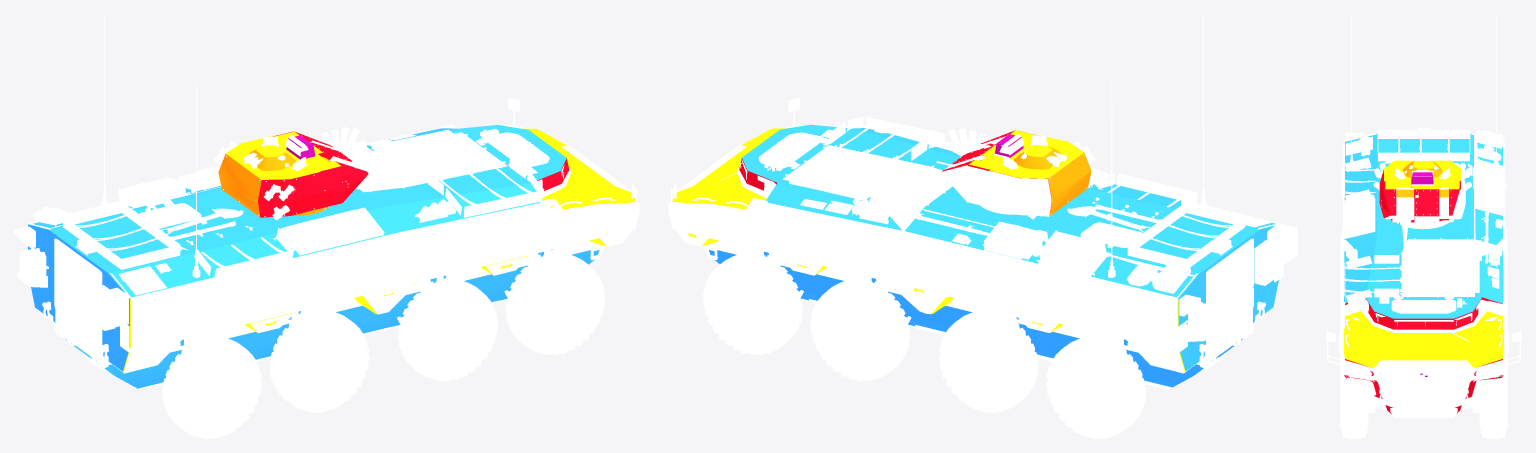
The model's file is PARSIII.gltf.
3 renders of one model, left to right at view 1: azimuth 30°, elevation 25°; view 2: azimuth 150°, elevation 25°; view 3: azimuth 270°, elevation 25°, orthographic. The views are drawn at different scales.
Parts seen in each view (by area): view 1: 47_4, SM_PARS3_Col, 47_1, 47, 47_3, 47_2, SM_IFV25_Turret_Col_1, SM_PARS3_Col_3, SM_IFV25_Turret_Col, SM_IFV25_Turret_Col_2, 47_6, 47_5; view 2: 47_4, SM_PARS3_Col, 47, 47_1, 47_3, 47_2, 47_6, SM_PARS3_Col_3, SM_IFV25_Turret_Col_2, SM_IFV25_Turret_Col, 47_5; view 3: SM_PARS3_Col, 47, SM_PARS3_Col_3, 47_2, 47_3, 47_4, 47_1, 47_6, SM_PARS3_Col_1, SM_IFV25_Turret_Col_1, SM_IFV25_Turret_Col_2, 47_5 (+2 smaller).
Part boxes in pixels (<box>): 47_4: <box>81,230,631,438</box>; SM_PARS3_Col: <box>28,125,599,388</box>; 47_1: <box>29,133,544,388</box>; 47: <box>134,98,639,296</box>; 47_3: <box>14,14,456,367</box>; 47_2: <box>19,163,603,389</box>; SM_IFV25_Turret_Col_1: <box>258,131,368,217</box>; SM_PARS3_Col_3: <box>123,128,635,371</box>; SM_IFV25_Turret_Col: <box>218,147,341,217</box>; SM_IFV25_Turret_Col_2: <box>226,131,340,179</box>; 47_6: <box>213,135,367,220</box>; 47_5: <box>311,140,457,175</box>; 47_4: <box>676,230,1227,438</box>; SM_PARS3_Col: <box>708,124,1278,387</box>; 47: <box>668,98,1276,290</box>; 47_1: <box>785,117,1276,388</box>; 47_3: <box>851,14,1297,367</box>; 47_2: <box>704,119,1274,389</box>; 47_6: <box>941,134,1095,219</box>; SM_PARS3_Col_3: <box>672,128,1185,371</box>; SM_IFV25_Turret_Col_2: <box>969,130,1083,178</box>; SM_IFV25_Turret_Col: <box>979,146,1091,215</box>; 47_5: <box>874,125,1000,169</box>; SM_PARS3_Col: <box>1344,133,1503,318</box>; 47: <box>1326,142,1521,409</box>; SM_PARS3_Col_3: <box>1343,311,1503,368</box>; 47_2: <box>1341,130,1505,417</box>; 47_3: <box>1342,14,1506,267</box>; 47_4: <box>1340,228,1507,438</box>; 47_1: <box>1341,130,1505,374</box>; 47_6: <box>1373,158,1471,229</box>; SM_PARS3_Col_1: <box>1344,297,1503,414</box>; SM_IFV25_Turret_Col_1: <box>1379,169,1460,222</box>; SM_IFV25_Turret_Col_2: <box>1384,160,1461,189</box>; 47_5: <box>1396,197,1448,256</box>.
Bounding box in the file's own units: 6.83 × 4.29 × 2.69.
